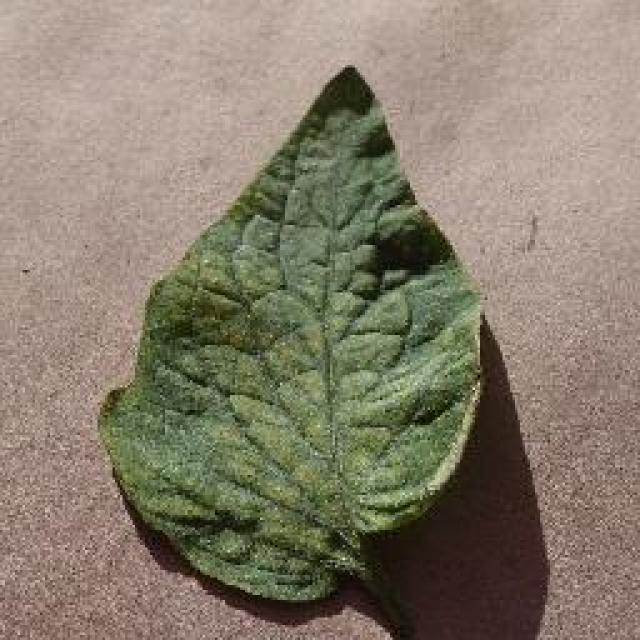Tomato___Spider_mites Two-spotted_spider_mite: (98, 68, 480, 635)
